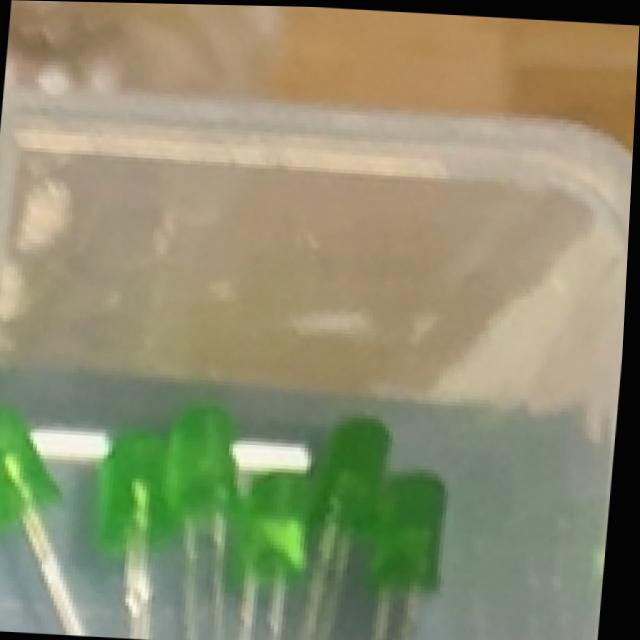GREEN_LED: (0, 404, 108, 636), (151, 396, 244, 640), (294, 408, 390, 640), (84, 428, 178, 640), (362, 469, 453, 640), (230, 462, 317, 640)
